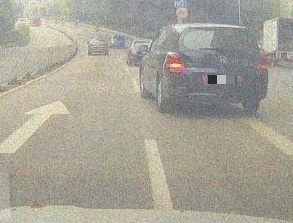L_light: (163, 52, 188, 75)
R_light: (255, 55, 268, 73)
T_light: (211, 26, 230, 30)
day-left: (161, 25, 269, 114)
plate_1: (208, 75, 236, 84)
